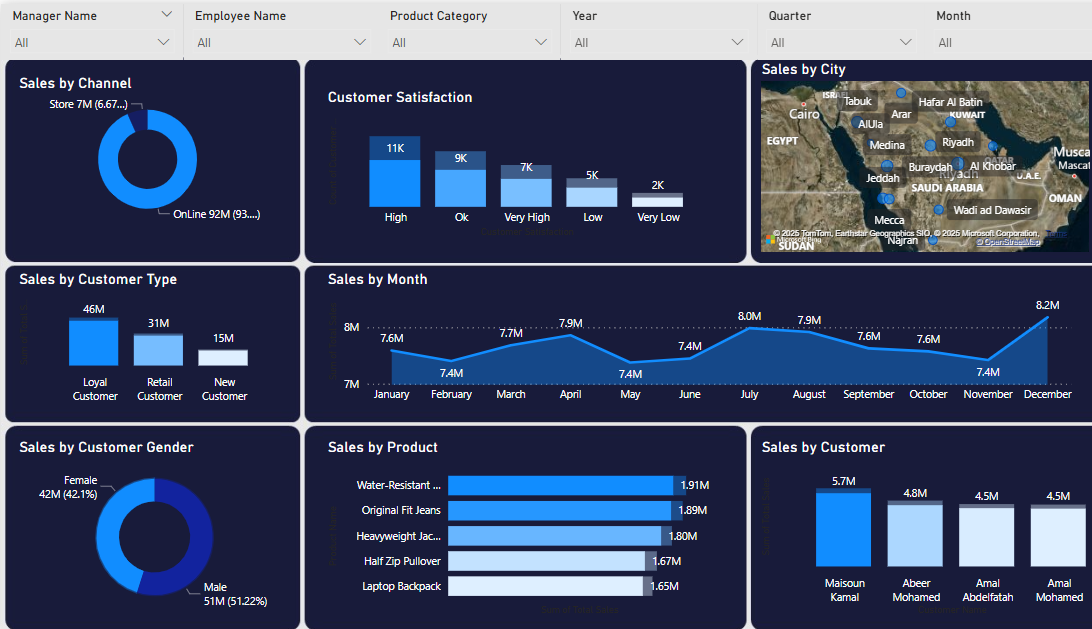

What the dashboard file says about the page in this screenshot:
{"tool":"powerbi","page":{"name":"Page 1","canvas":[1280,720],"ordinal":0},"visuals":[{"type":"map","title":" Sales by City","fields":{"Category":["Sales Data.City"],"Size":["Sales Data.Total Sales"]},"box":[864,64,384,224],"z":0},{"type":"donutChart","title":" Sales by Channel","fields":{"Category":["Sales Data.Channel"],"Y":["Sales Data.Total Sales"]},"box":[16,80,304,176],"z":1000},{"type":"clusteredColumnChart","title":" Customer Satisfaction","fields":{"Category":["Sales Data.Customer Satisfaction"],"Y":["Sales Data.Customer Satisfaction"]},"box":[368,96,448,176],"z":2000},{"type":"clusteredColumnChart","title":" Sales by Customer Type","fields":{"Category":["Sales Data.Customer Type"],"Y":["Sales Data.Total Sales"]},"box":[16,304,304,160],"z":3000},{"type":"lineChart","title":" Sales by Month","fields":{"Category":["Sales Data.Invoice Date.Variation.Date Hierarchy.Month"],"Y":["Sales Data.Total Sales"]},"box":[368,304,864,160],"z":4000},{"type":"donutChart","title":"Sales by Customer Gender","fields":{"Category":["Sales Data.Customer Gender"],"Y":["Sales Data.Total Sales"]},"box":[16,496,320,208],"z":5000},{"type":"clusteredBarChart","title":" Sales by Product ","fields":{"Category":["Sales Data.Product Name"],"Y":["Sales Data.Total Sales"]},"box":[368,496,448,208],"z":6000},{"type":"clusteredColumnChart","title":"Sales by Customer ","fields":{"Category":["Sales Data.Customer Name"],"Y":["Sales Data.Total Sales"]},"box":[864,496,416,208],"z":6001},{"type":"slicer","fields":{"Values":["Sales Data.Manager Name"]},"box":[0,0,208,64],"z":6002},{"type":"slicer","fields":{"Values":["Sales Data.Invoice Date.Variation.Date Hierarchy.Quarter"]},"box":[864,0,192,64],"z":6003},{"type":"slicer","fields":{"Values":["Sales Data.Employee Name"]},"box":[208,0,224,64],"z":6004},{"type":"slicer","fields":{"Values":["Sales Data.Product Category"]},"box":[432,0,208,64],"z":6005},{"type":"slicer","fields":{"Values":["Sales Data.Invoice Date.Variation.Date Hierarchy.Year"]},"box":[640,0,224,64],"z":6006},{"type":"slicer","fields":{"Values":["Sales Data.Invoice Date.Variation.Date Hierarchy.Month"]},"box":[1056,0,224,64],"z":6007}]}

Visuals, with their boxes in screenshot pixels (x1, y1, x2, y2), scaled from the page's 1280x720 canvas onto the 1092x629 screenshot:
" Sales by City" map: bbox=[737, 56, 1065, 252]
" Sales by Channel" donutChart: bbox=[14, 70, 273, 224]
" Customer Satisfaction" clusteredColumnChart: bbox=[314, 84, 696, 238]
" Sales by Customer Type" clusteredColumnChart: bbox=[14, 266, 273, 405]
" Sales by Month" lineChart: bbox=[314, 266, 1051, 405]
"Sales by Customer Gender" donutChart: bbox=[14, 433, 287, 615]
" Sales by Product " clusteredBarChart: bbox=[314, 433, 696, 615]
"Sales by Customer " clusteredColumnChart: bbox=[737, 433, 1091, 615]
slicer - Sales Data.Manager Name: bbox=[0, 0, 177, 56]
slicer - Sales Data.Invoice Date.Variation.Date Hierarchy.Quarter: bbox=[737, 0, 901, 56]
slicer - Sales Data.Employee Name: bbox=[177, 0, 369, 56]
slicer - Sales Data.Product Category: bbox=[369, 0, 546, 56]
slicer - Sales Data.Invoice Date.Variation.Date Hierarchy.Year: bbox=[546, 0, 737, 56]
slicer - Sales Data.Invoice Date.Variation.Date Hierarchy.Month: bbox=[901, 0, 1091, 56]
